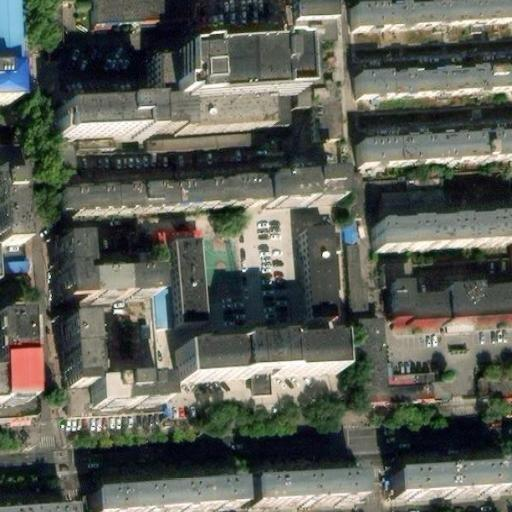building: (176, 334, 337, 377), (54, 181, 263, 214), (176, 57, 294, 112), (56, 238, 152, 305), (357, 56, 512, 92), (386, 275, 512, 319), (363, 128, 512, 164), (377, 212, 512, 250), (353, 0, 512, 31), (93, 481, 237, 512), (249, 473, 363, 508), (390, 468, 500, 502), (300, 239, 336, 335), (53, 105, 146, 138), (91, 0, 186, 30), (173, 250, 203, 340), (339, 233, 369, 315), (91, 382, 162, 414), (268, 179, 337, 211), (64, 322, 91, 396), (291, 0, 332, 31), (312, 101, 342, 143), (155, 62, 178, 113), (0, 147, 19, 177), (0, 71, 14, 103)
